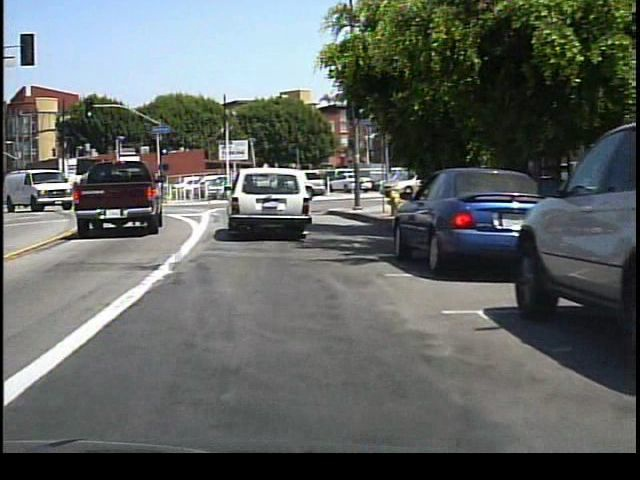person: (350, 167, 366, 200)
